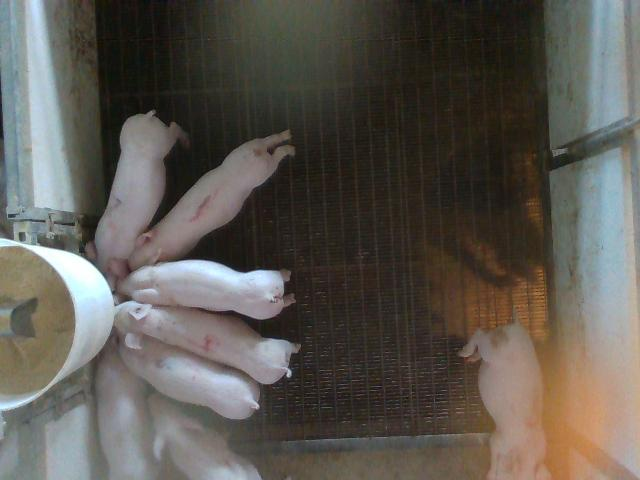pig-1: (129, 131, 295, 269)
pig-3: (459, 310, 551, 478)
pig-4: (114, 301, 299, 384)
